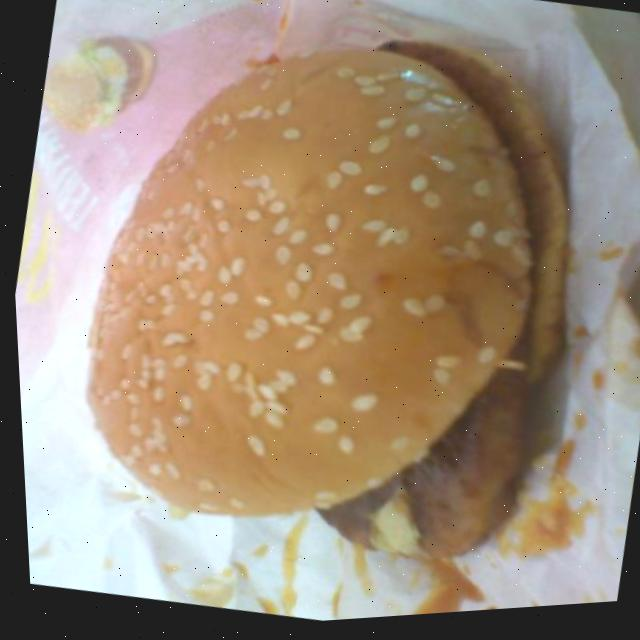汉堡快餐: (35, 0, 621, 593)
